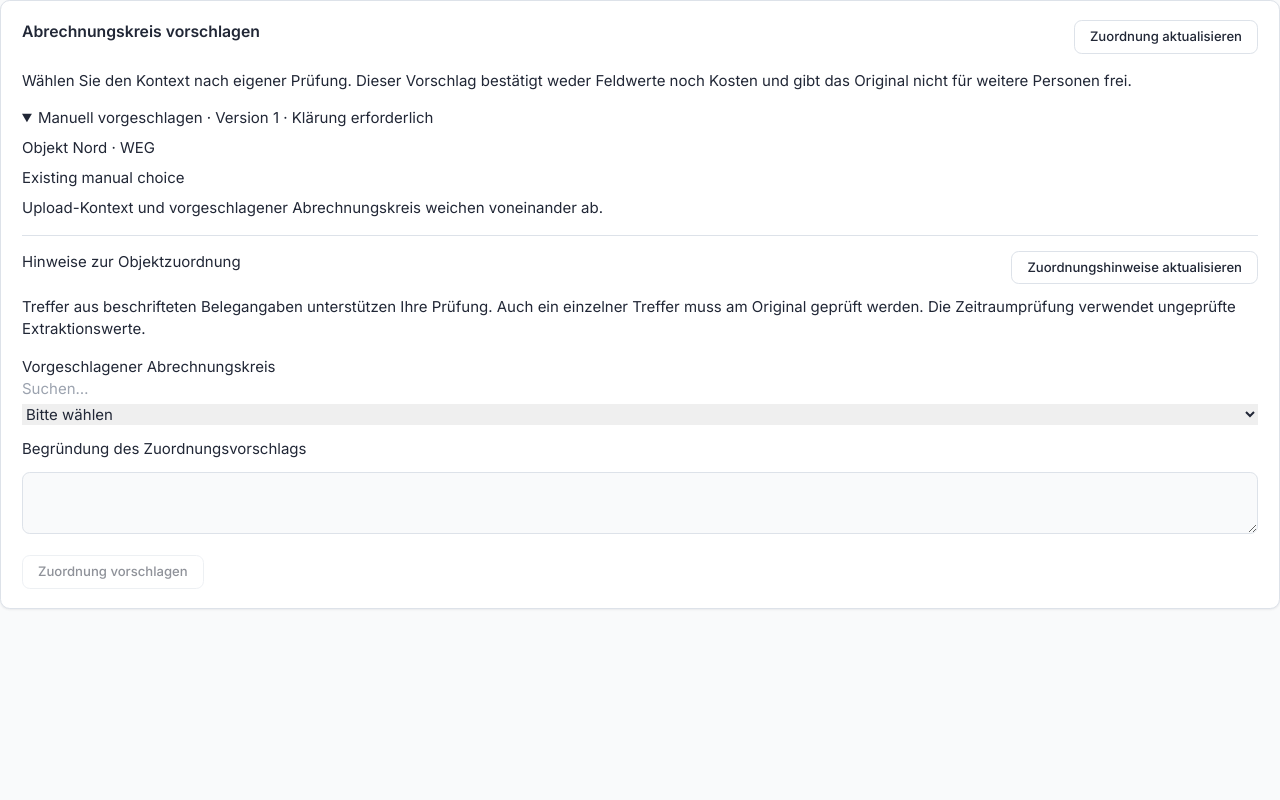
Test: clears destination details on fresh source denial
Expected: the text "Existing manual choice" is shown, x1=22 y1=168 x2=184 y2=187
What coordinates should you click on to do the following:
click the button "Zuordnung aktualisieren"
I would click on:
 (1166, 37)
Its box is x1=1074 y1=20 x2=1258 y2=54.
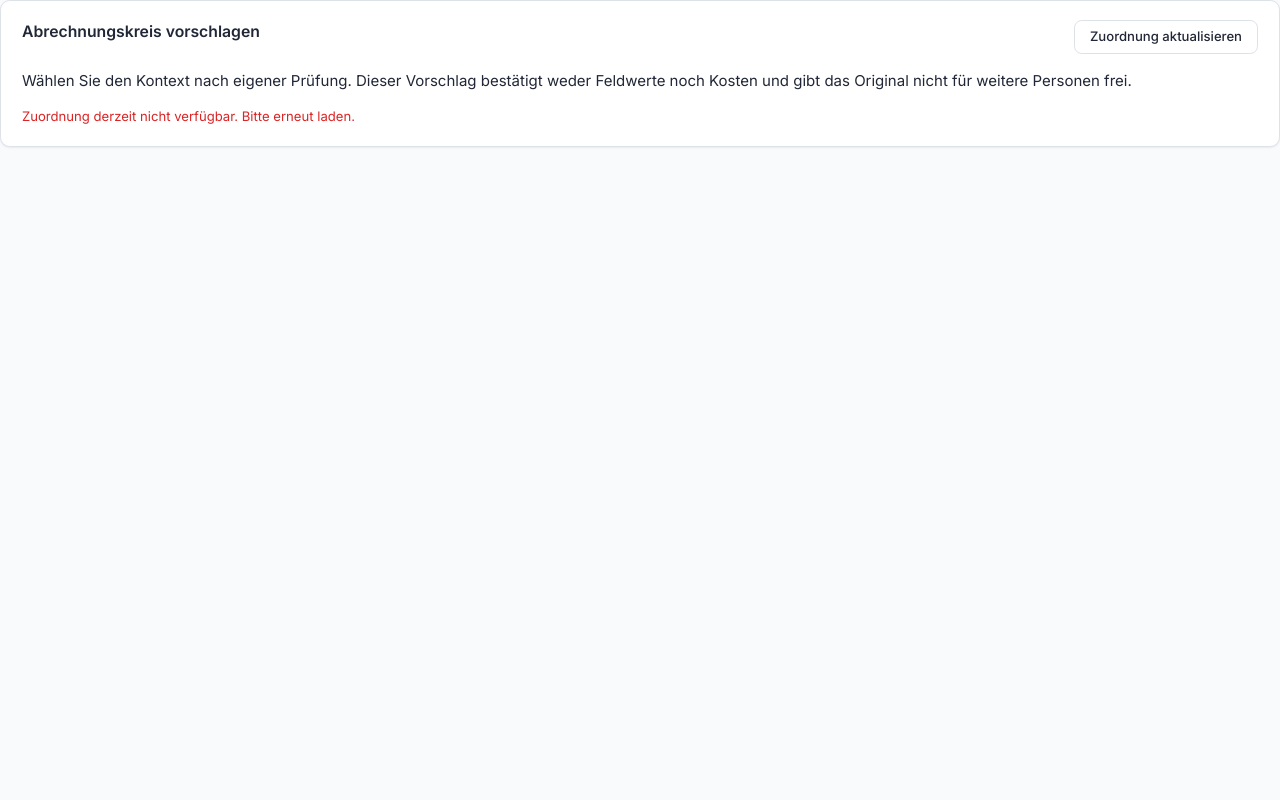
Now the text "Existing manual choice" is gone
